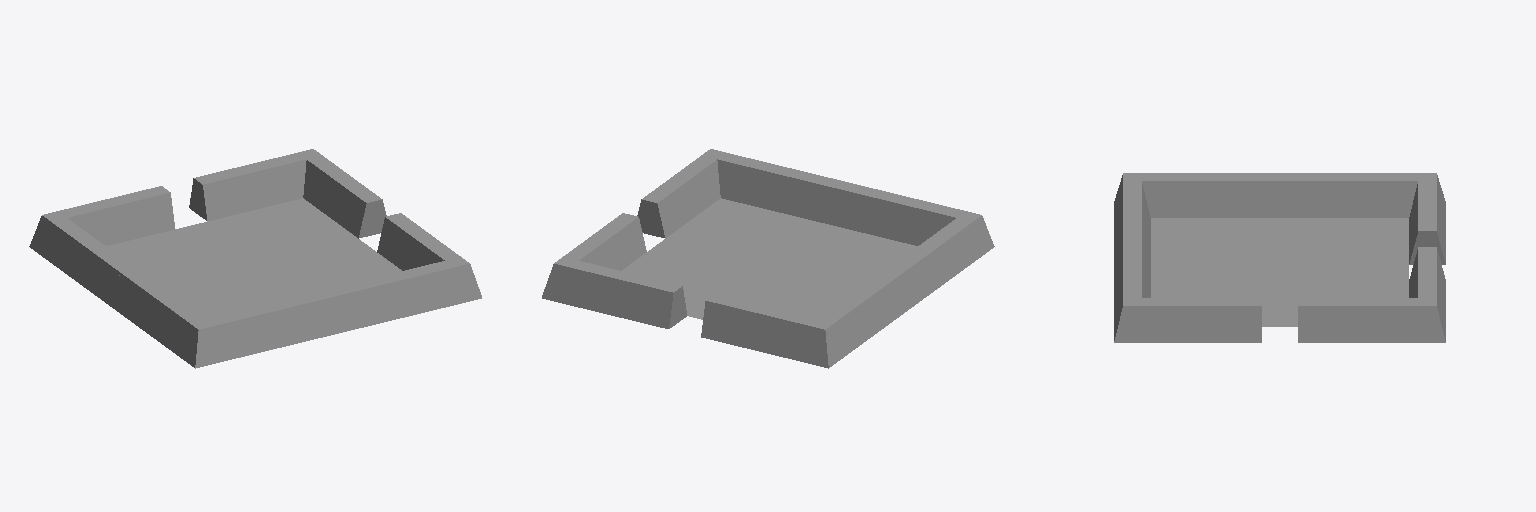
File: sala_08.obj
3 renders of one model, left to right at view 1: azimuth 30°, elevation 25°; view 2: azimuth 150°, elevation 25°; view 3: azimuth 270°, elevation 25°, orthographic.
Visible parts, largest first — view 1: Ground_Plane, Wall.002_Cube.014, Wall.005_Cube.002, Wall.007_Cube.017, Wall.001_Cube.012, Wall.003_Cube.010, Wall.000_Cube.011, Wall.006_Cube.016, Wall.004_Cube.015; view 2: Ground_Plane, Wall.007_Cube.017, Wall.000_Cube.011, Wall.005_Cube.002, Wall.002_Cube.014, Wall.003_Cube.010, Wall.001_Cube.012, Wall.004_Cube.015, Wall.006_Cube.016; view 3: Ground_Plane, Wall.004_Cube.015, Wall.006_Cube.016, Wall.003_Cube.010, Wall.001_Cube.012, Wall.000_Cube.011, Wall.002_Cube.014, Wall.005_Cube.002, Wall.007_Cube.017.
Part boxes in pixels (left/top/right/bottom): Ground_Plane: left=106, top=198, right=401, bottom=318; Wall.002_Cube.014: left=195, top=290, right=338, bottom=368; Wall.005_Cube.002: left=326, top=261, right=481, bottom=332; Wall.007_Cube.017: left=189, top=149, right=312, bottom=221; Wall.001_Cube.012: left=29, top=215, right=135, bottom=306; Wall.003_Cube.010: left=112, top=269, right=204, bottom=367; Wall.000_Cube.011: left=44, top=186, right=174, bottom=245; Wall.006_Cube.016: left=303, top=149, right=386, bottom=238; Wall.004_Cube.015: left=377, top=213, right=468, bottom=270; Ground_Plane: left=622, top=198, right=917, bottom=319; Wall.007_Cube.017: left=542, top=261, right=686, bottom=328; Wall.000_Cube.011: left=701, top=294, right=828, bottom=368; Wall.005_Cube.002: left=711, top=149, right=845, bottom=224; Wall.002_Cube.014: left=833, top=182, right=979, bottom=245; Wall.003_Cube.010: left=888, top=215, right=994, bottom=306; Wall.001_Cube.012: left=819, top=269, right=911, bottom=367; Wall.004_Cube.015: left=637, top=149, right=720, bottom=238; Wall.006_Cube.016: left=555, top=213, right=646, bottom=270; Ground_Plane: left=1151, top=218, right=1408, bottom=326; Wall.004_Cube.015: left=1114, top=298, right=1261, bottom=342; Wall.006_Cube.016: left=1298, top=298, right=1445, bottom=342; Wall.003_Cube.010: left=1124, top=173, right=1279, bottom=217; Wall.001_Cube.012: left=1280, top=173, right=1435, bottom=217; Wall.000_Cube.011: left=1409, top=173, right=1445, bottom=264; Wall.002_Cube.014: left=1114, top=173, right=1150, bottom=270; Wall.005_Cube.002: left=1114, top=239, right=1150, bottom=340; Wall.007_Cube.017: left=1409, top=247, right=1445, bottom=340.
Size of the model in its own units: 18 by 2 by 18.